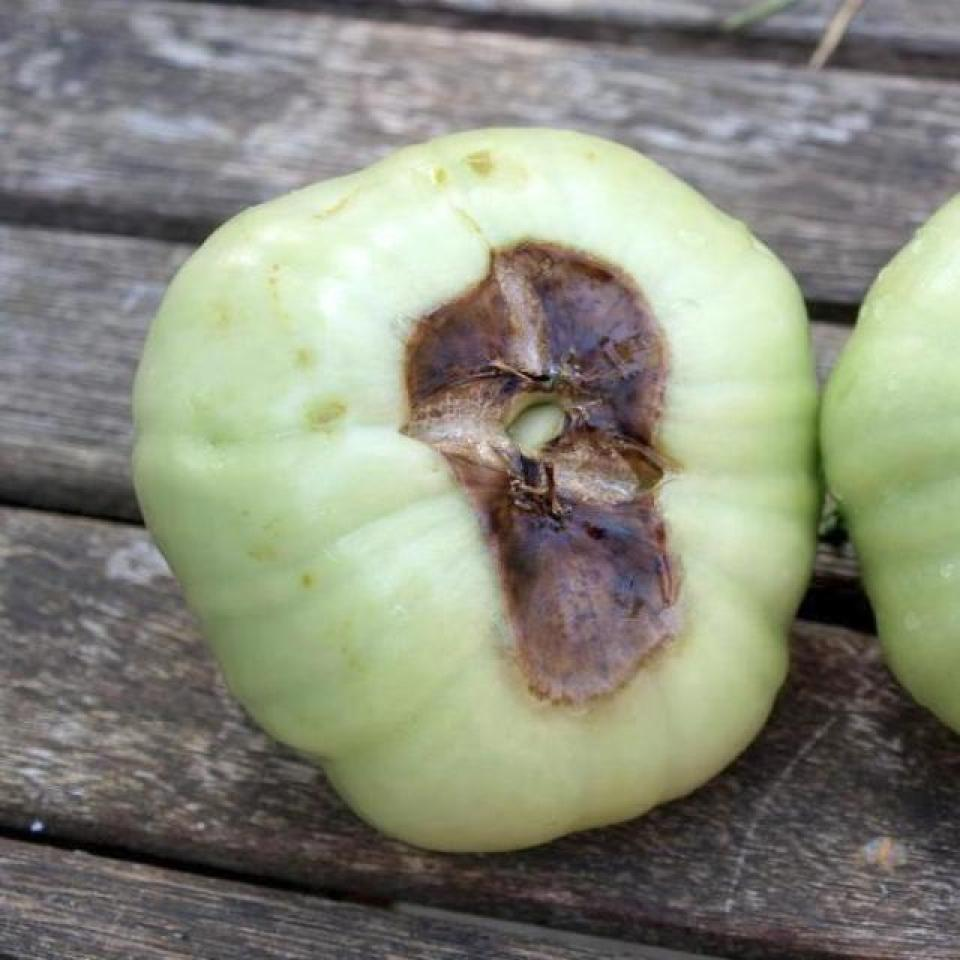Blossom_end_rot: (399, 226, 685, 714)
